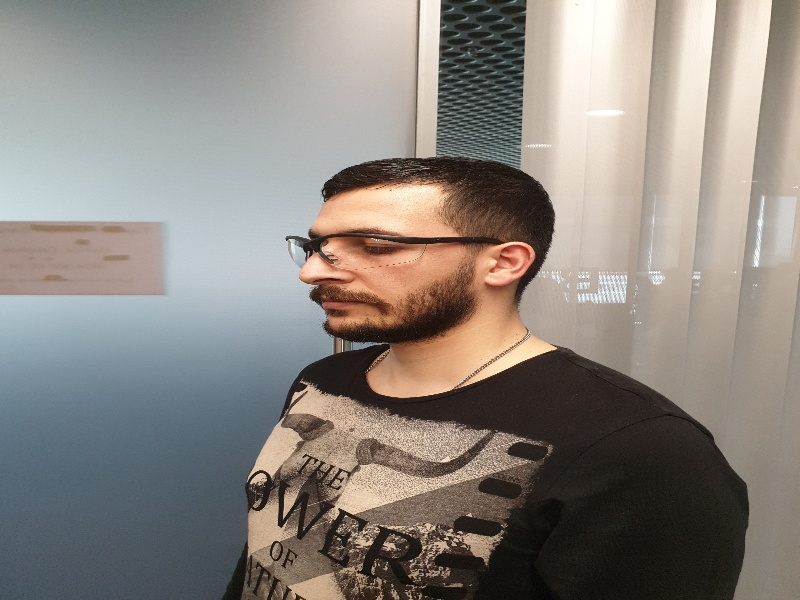Gozluk: (282, 232, 505, 271)
